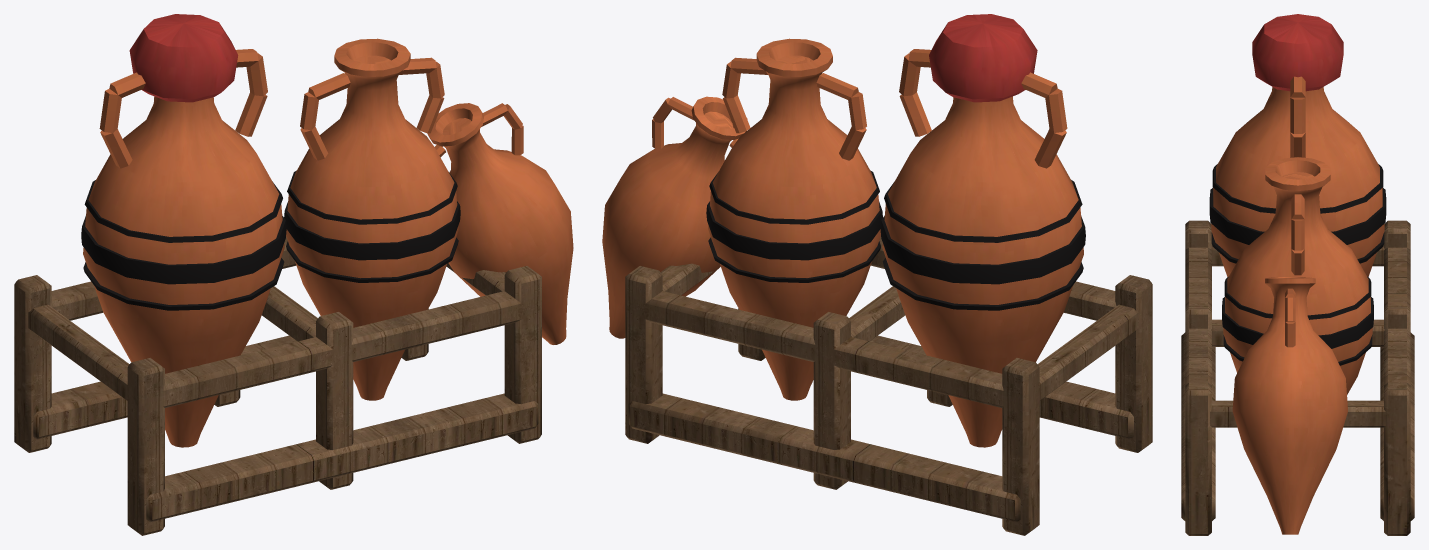
File: decor_amphorae_t1_cluster.glb
The picture shows the model from 3 angles, left to right: view 1: azimuth 30°, elevation 25°; view 2: azimuth 150°, elevation 25°; view 3: azimuth 270°, elevation 25°; orthographic projection. The views are drawn at different scales.
Visible parts, largest first — view 1: terracotta, wood_dark, black_glaze, red_cloth; view 2: terracotta, wood_dark, black_glaze, red_cloth; view 3: terracotta, wood_dark, black_glaze, red_cloth.
Boxes of the visible parts, x1,y1,x2,y2 form: terracotta: (83,38,573,447); wood_dark: (14,236,541,535); black_glaze: (81,170,460,310); red_cloth: (129,14,238,102); terracotta: (602,38,1083,447); wood_dark: (625,236,1152,535); black_glaze: (706,170,1085,310); red_cloth: (929,14,1037,102); terracotta: (1211,76,1384,534); wood_dark: (1181,220,1414,535); black_glaze: (1209,164,1386,365); red_cloth: (1252,14,1343,91).
Size of the model in its own units: 1.29 by 1.12 by 0.61.
Materials: 5 (4 with a texture image).
